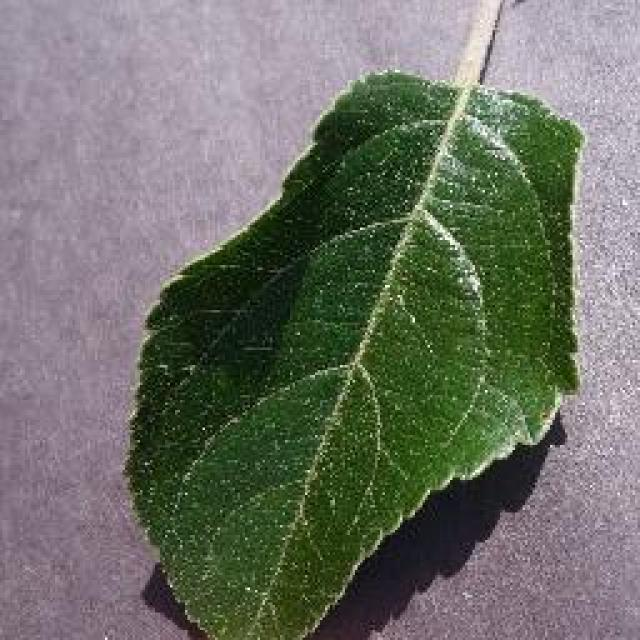apple healthy: (120, 62, 585, 638)
